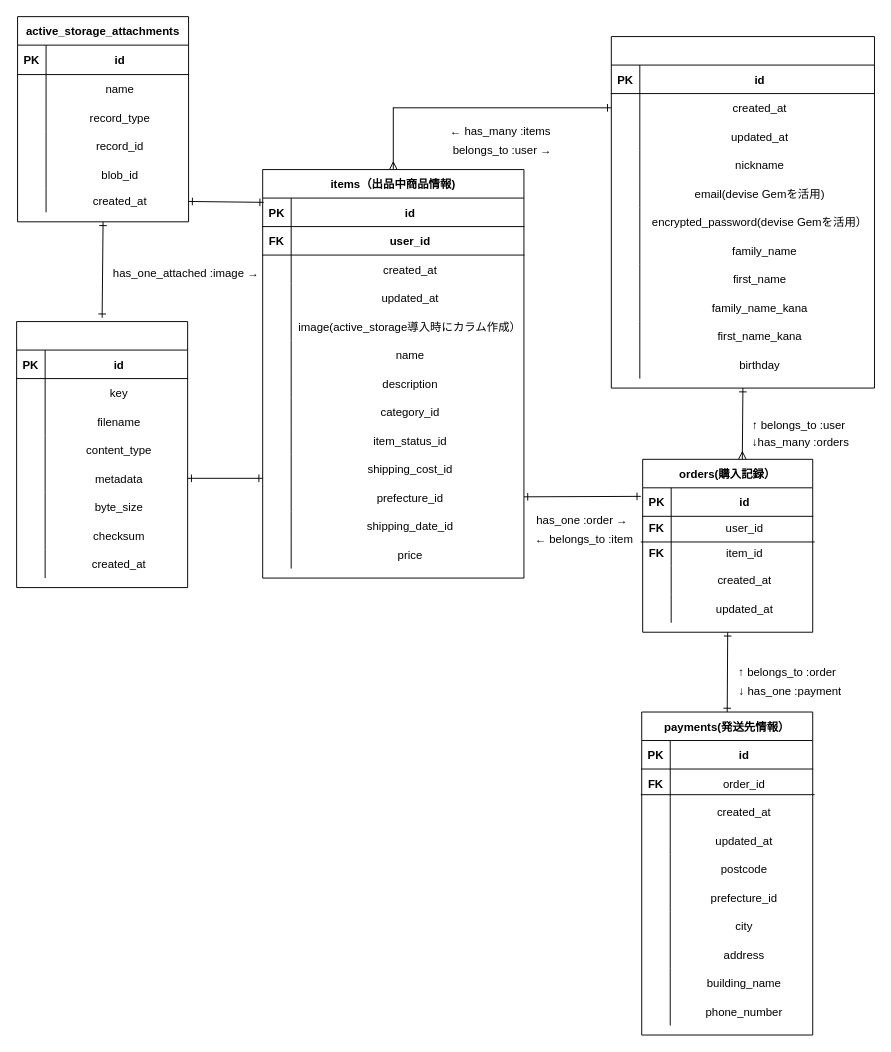
This 891x1052 diagram has some shape labels left out. Here are the shapes that lost their labels. From the top down, the box of each, then its label:
(610, 36, 874, 388): users
(16, 321, 188, 588): active_storage_blobs
